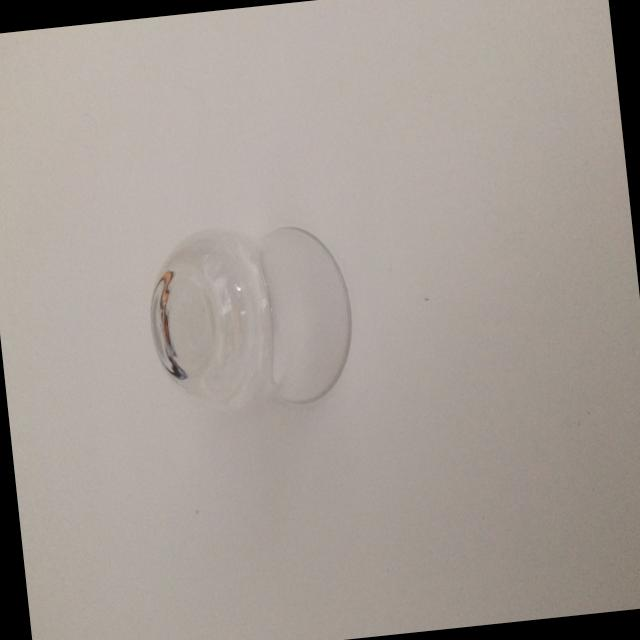Glass: (130, 202, 370, 428)
